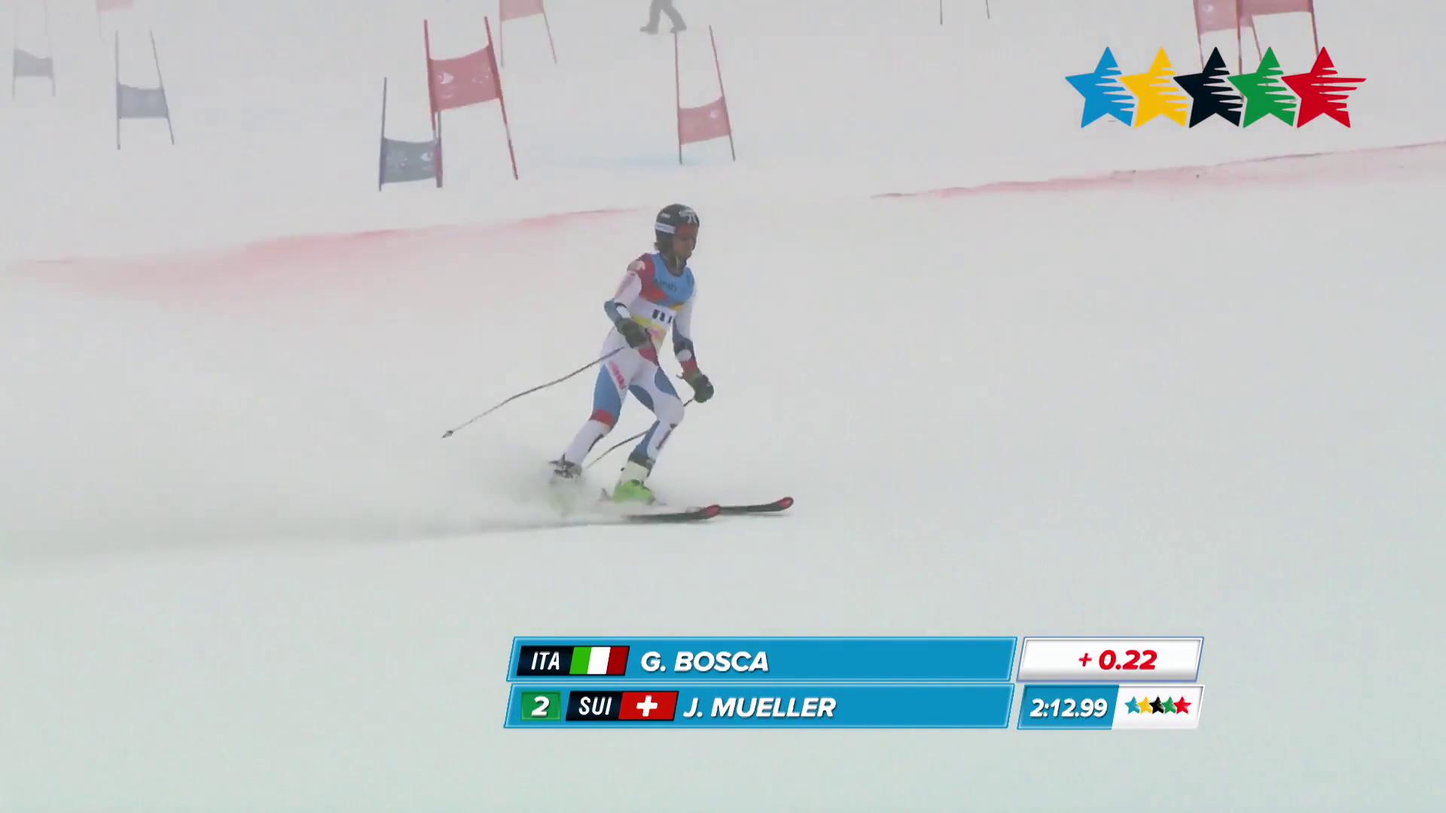gate: (424, 17, 517, 186), (674, 26, 736, 164), (114, 33, 173, 149)
